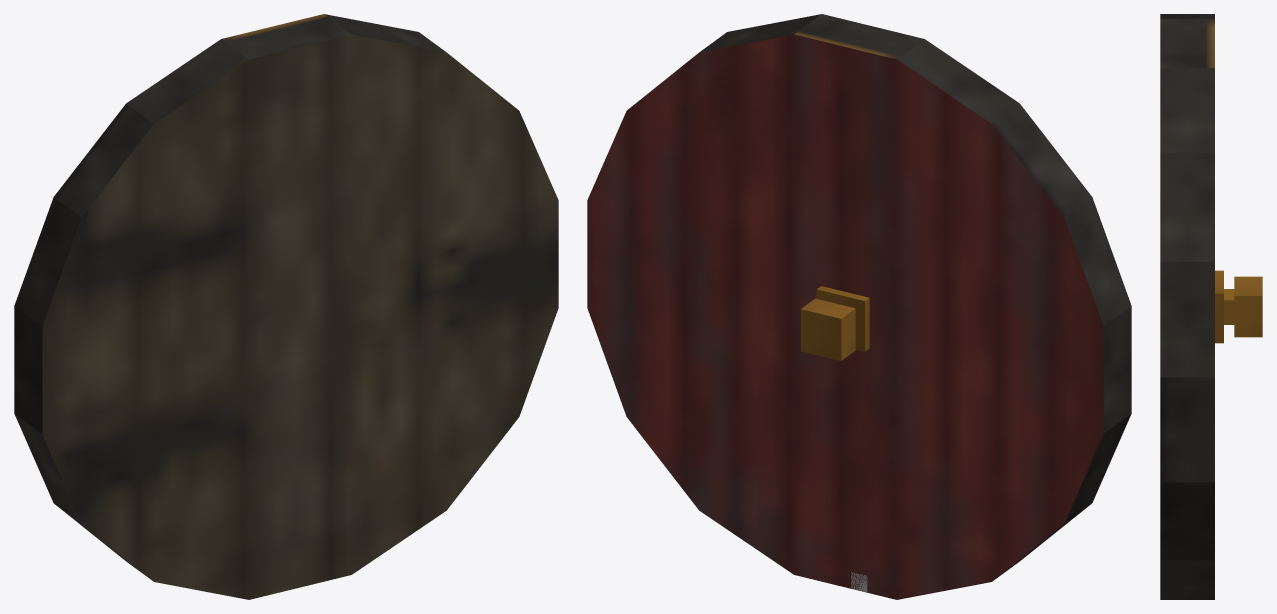
File: hobbit_door_2x2_red.obj
3 views of the same model, side by side, from view 1: azimuth 30°, elevation 25°; view 2: azimuth 150°, elevation 25°; view 3: azimuth 270°, elevation 25° (orthographic). The views are drawn at different scales.
Visible parts, largest first — view 1: cylinder; view 2: cylinder, cube; view 3: cylinder, cube.
Boxes of the visible parts, <box> form: cylinder: <box>14,14,558,599</box>; cylinder: <box>587,14,1131,599</box>; cube: <box>801,286,869,592</box>; cylinder: <box>1160,14,1214,599</box>; cube: <box>1215,270,1262,343</box>.
Bounding box in the file's own units: 2 × 2 × 0.3516.
